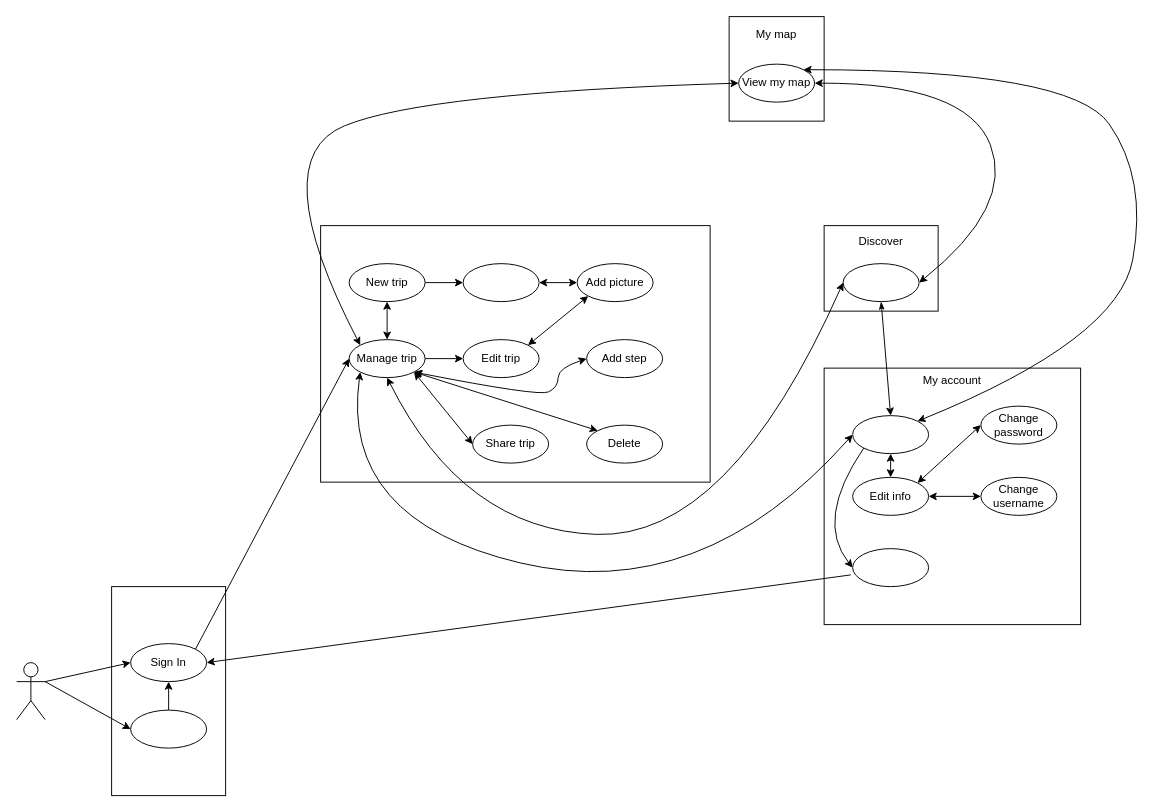
This 1154x812 diagram has some shape labels left out. Here are the shapes that lost their labels. From the top down, the box of each, then its label:
(462, 263, 539, 302): Set info
(842, 263, 919, 302): View trip
(320, 225, 710, 482): My trip
(852, 415, 929, 454): View account
(852, 548, 929, 587): Logout
(16, 662, 45, 720): Actor
(111, 586, 226, 796): Login
(130, 709, 207, 748): Sign Up
